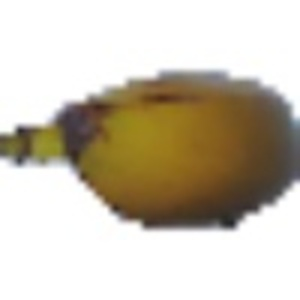banana: (2, 74, 299, 238)
